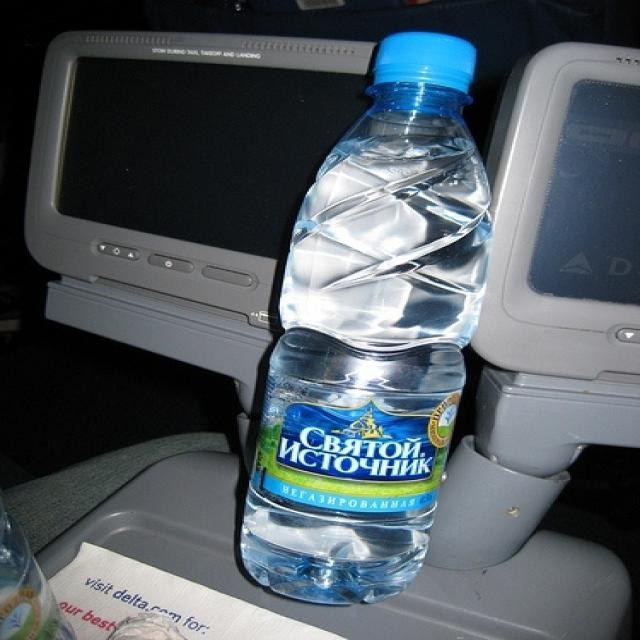Plastics: (267, 20, 479, 599)
